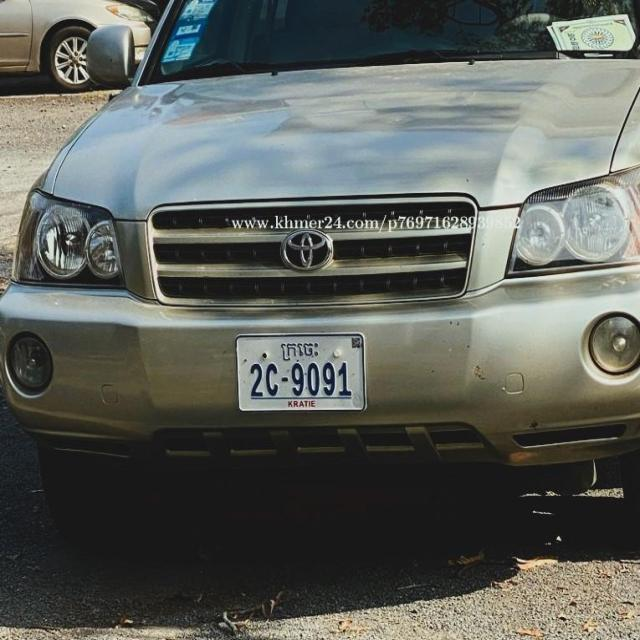Kratie: (281, 341, 319, 362)
